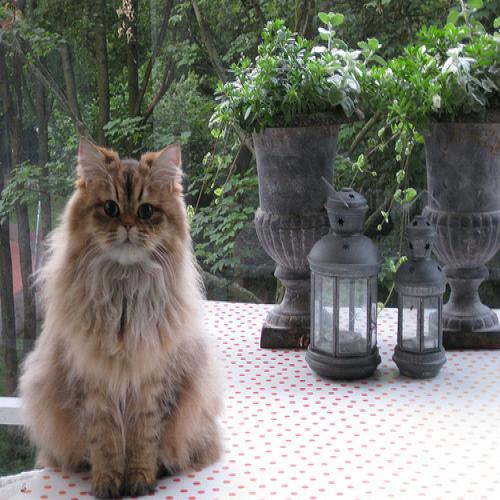persian: (73, 132, 187, 275)
